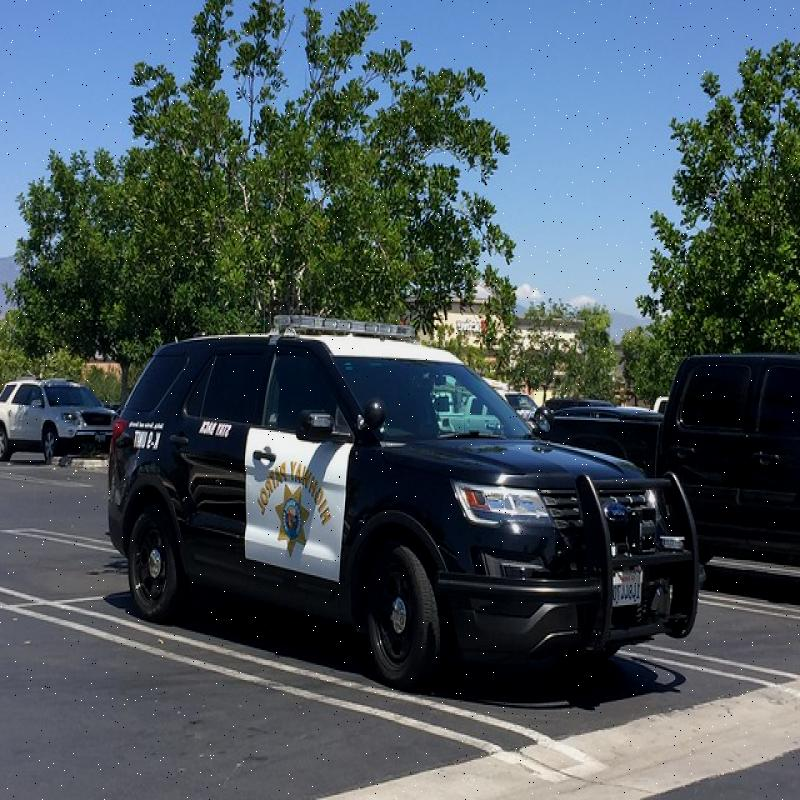AmbulanceSiren: (273, 304, 416, 356)
